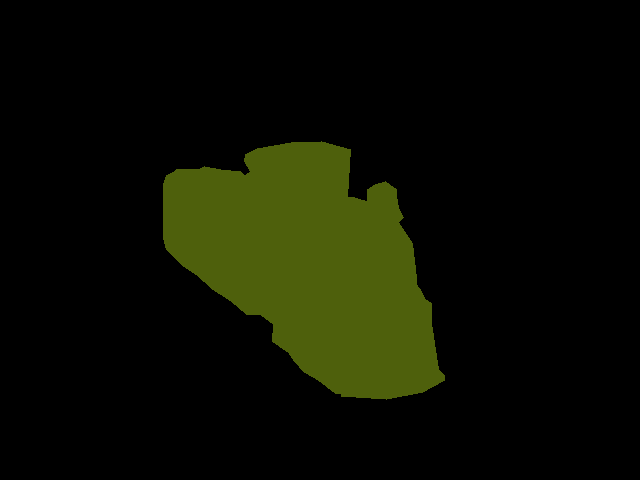Train: (163, 141, 444, 400)
